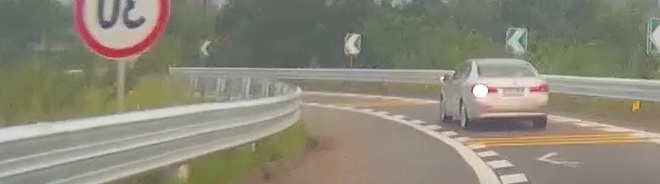L_light: (472, 85, 498, 94)
R_light: (530, 83, 548, 92)
T_light: (499, 63, 510, 67)
day-left: (468, 58, 549, 130)
